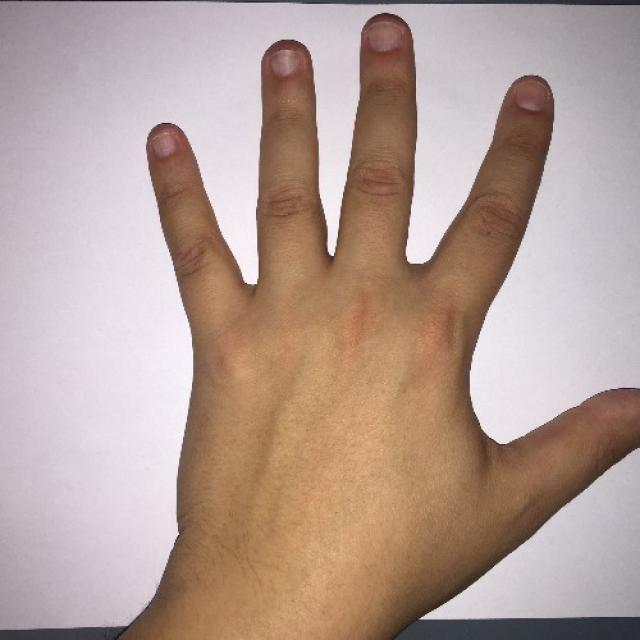paper: (147, 11, 640, 528)
